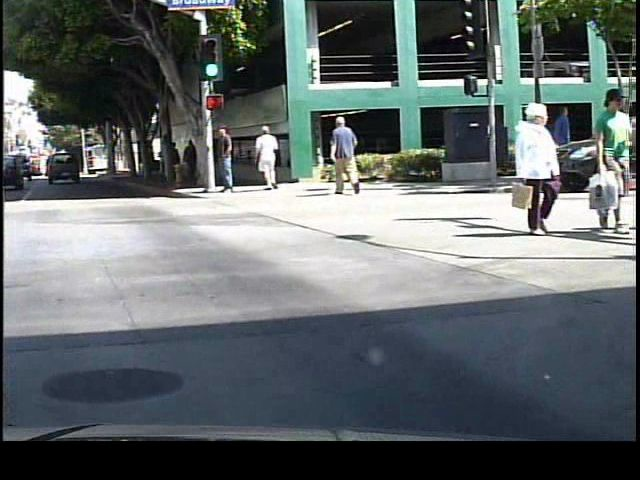person: (505, 102, 567, 242), (587, 87, 630, 238), (331, 114, 364, 196), (217, 124, 247, 205), (546, 103, 573, 181), (256, 123, 285, 195), (181, 136, 202, 187), (169, 141, 185, 187)
